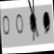correct: (42, 6, 52, 36)
not correct: (27, 0, 40, 41)
